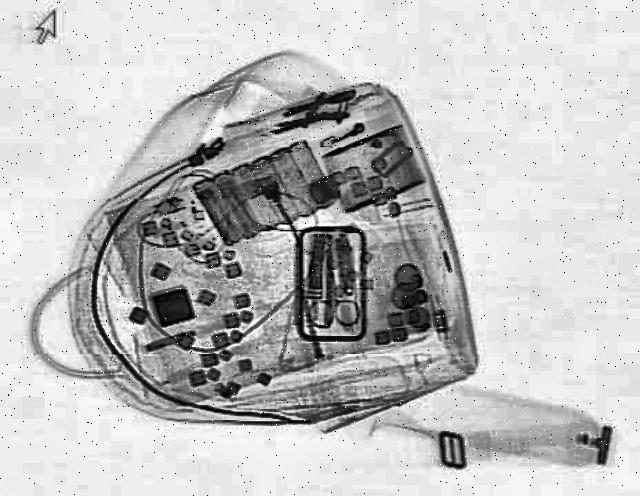Scissors: (304, 246, 366, 328)
